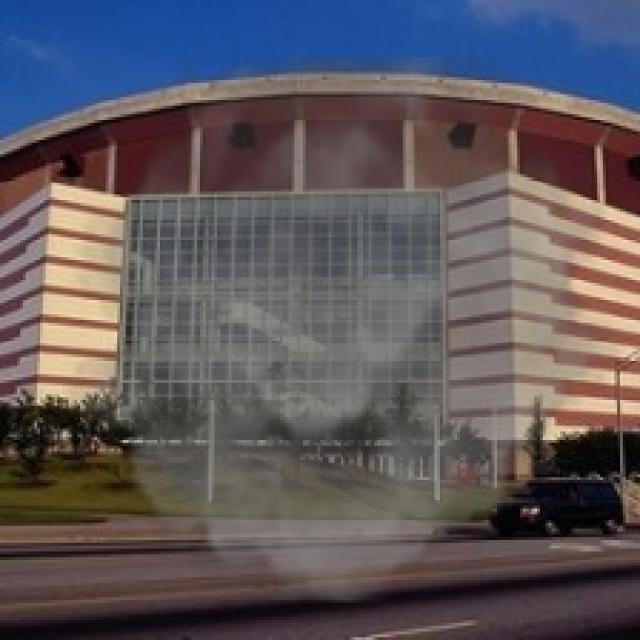Smoke: (63, 57, 626, 603)
